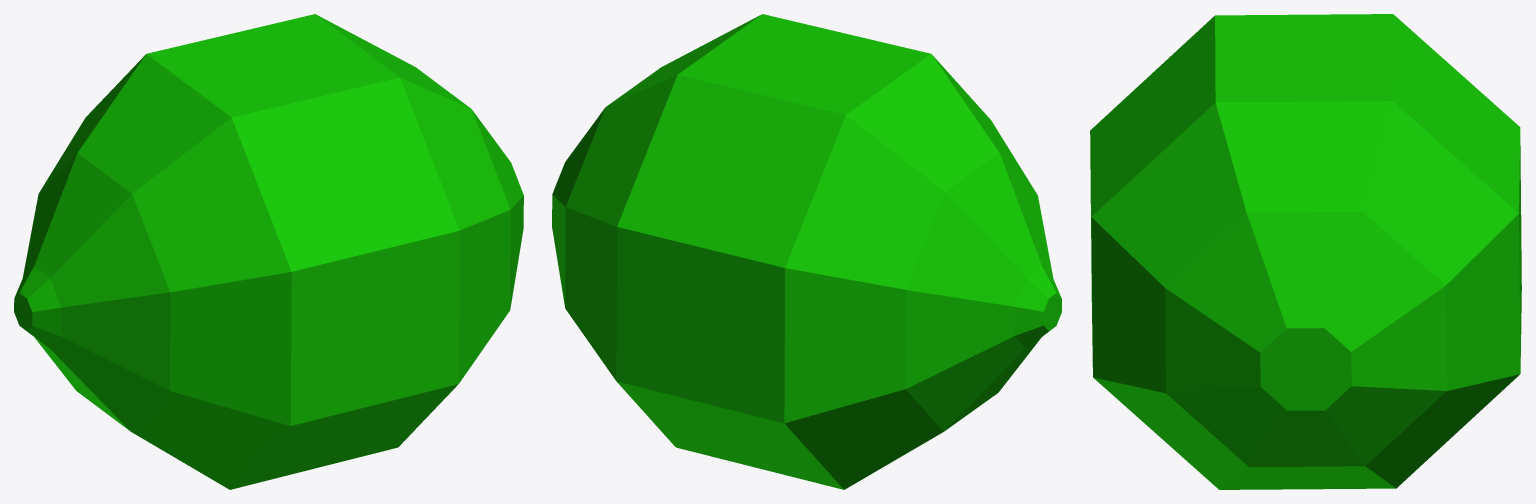
Rendered from lime01.obj.
3 views of the same model, side by side, from view 1: azimuth 30°, elevation 25°; view 2: azimuth 150°, elevation 25°; view 3: azimuth 270°, elevation 25° (orthographic). The views are drawn at different scales.
Parts seen in each view (by area): view 1: Cylinder.001; view 2: Cylinder.001; view 3: Cylinder.001.
Part boxes in pixels (x1,y1,x2,y2): Cylinder.001: (14, 14, 523, 489); Cylinder.001: (552, 14, 1061, 489); Cylinder.001: (1090, 14, 1521, 489).
Bounding box in the file's own units: 0.0476 × 0.0356 × 0.0356.
1 material, 1 textured.
